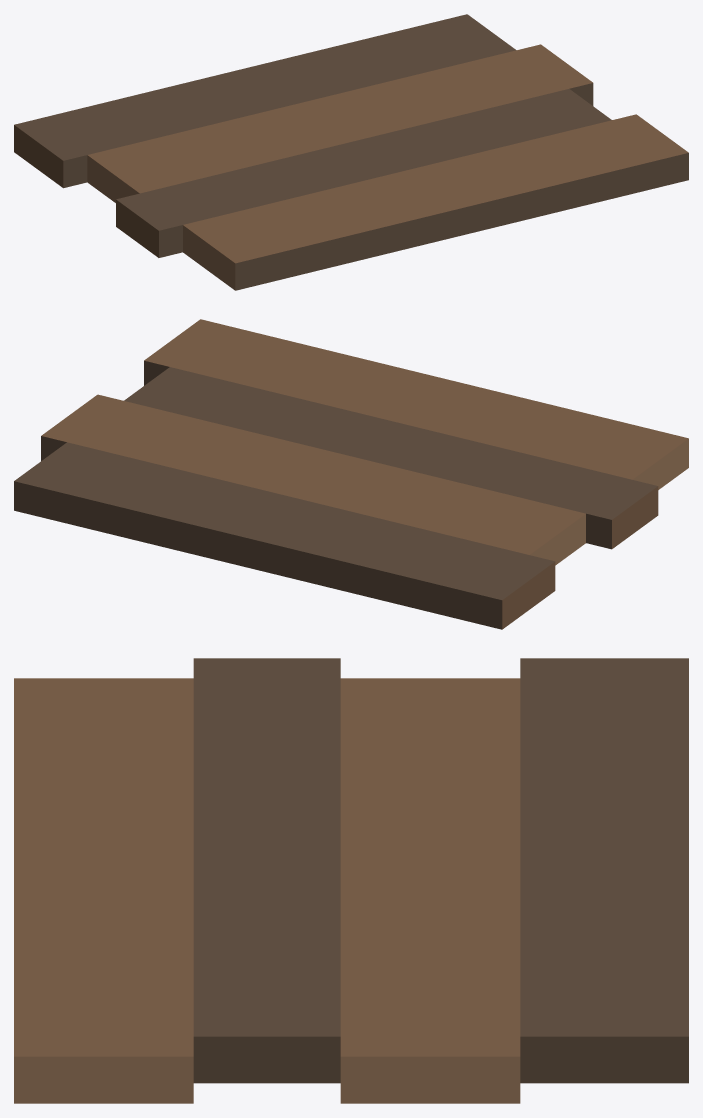
File: TB_D_Prop_WoodenPad_A.FBX
3 views of the same model, one above another, from view 1: azimuth 30°, elevation 25°; view 2: azimuth 150°, elevation 25°; view 3: azimuth 270°, elevation 25° (orthographic). The views are drawn at different scales.
Visible parts, largest first — view 1: TB_D_Prop_WoodenPad_A; view 2: TB_D_Prop_WoodenPad_A; view 3: TB_D_Prop_WoodenPad_A.
Boxes of the visible parts, x1,y1,x2,y2 form: TB_D_Prop_WoodenPad_A: (14, 14, 688, 290); TB_D_Prop_WoodenPad_A: (14, 319, 688, 629); TB_D_Prop_WoodenPad_A: (14, 658, 688, 1103).
Size of the model in its own units: 2.2 by 0.1207 by 1.58.
